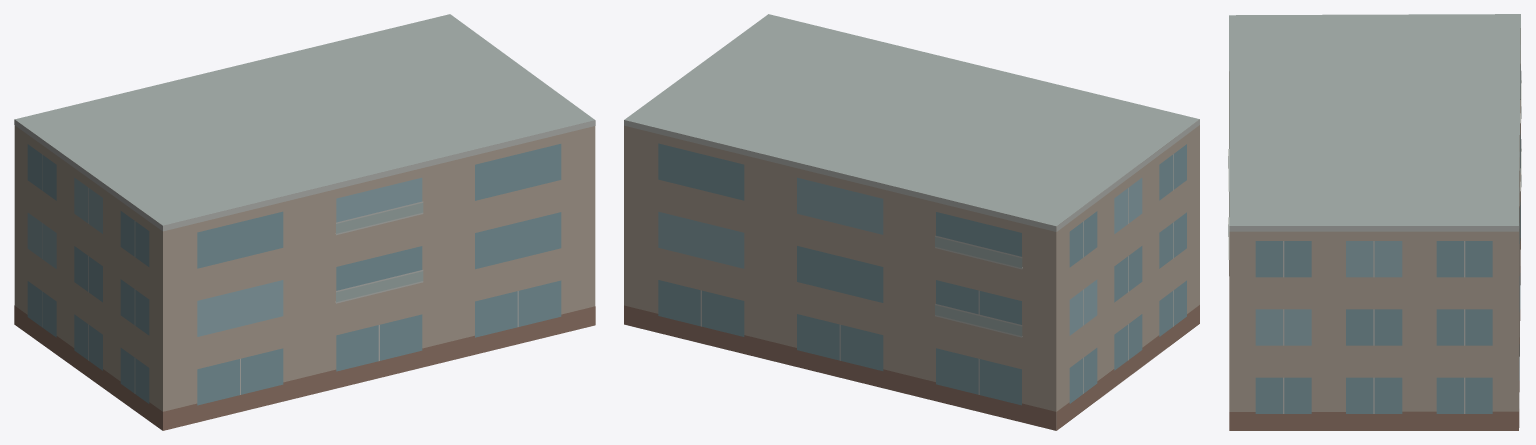
Rendered from survey-upis-32823781.glb.
3 views of the same model, side by side, from view 1: azimuth 30°, elevation 25°; view 2: azimuth 150°, elevation 25°; view 3: azimuth 270°, elevation 25° (orthographic).
Visible parts, largest first — view 1: survey-upis-32823781.tmp; view 2: survey-upis-32823781.tmp; view 3: survey-upis-32823781.tmp.
Part boxes in pixels (x1=…): survey-upis-32823781.tmp: x1=14, y1=14, x2=595, y2=430; survey-upis-32823781.tmp: x1=624, y1=14, x2=1199, y2=430; survey-upis-32823781.tmp: x1=1228, y1=14, x2=1521, y2=430.
Size of the model in its own units: 19.31 by 8.7 by 11.3.
